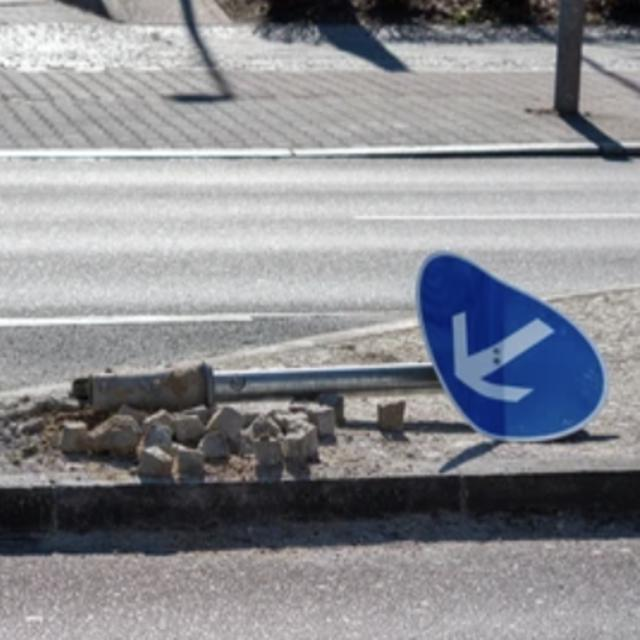Inclined Pole: (72, 222, 615, 476)
